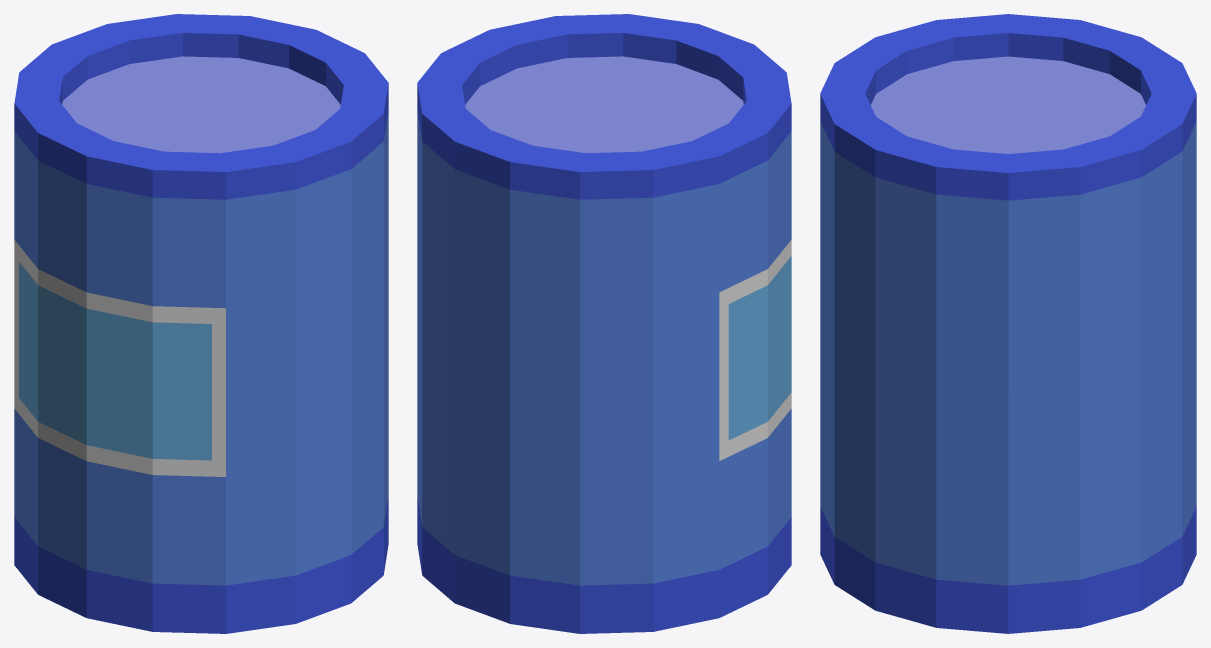
Rendered from can_single.fbx.
3 renders of one model, left to right at view 1: azimuth 30°, elevation 25°; view 2: azimuth 150°, elevation 25°; view 3: azimuth 270°, elevation 25°, orthographic.
Parts seen in each view (by area): view 1: Cylinder.001; view 2: Cylinder.001; view 3: Cylinder.001.
Boxes of the visible parts, box(x1,y1,x2,y2) form: Cylinder.001: box(14, 14, 388, 633); Cylinder.001: box(417, 14, 791, 633); Cylinder.001: box(820, 14, 1196, 633).
Size of the model in its own units: 120 by 161 by 120.
